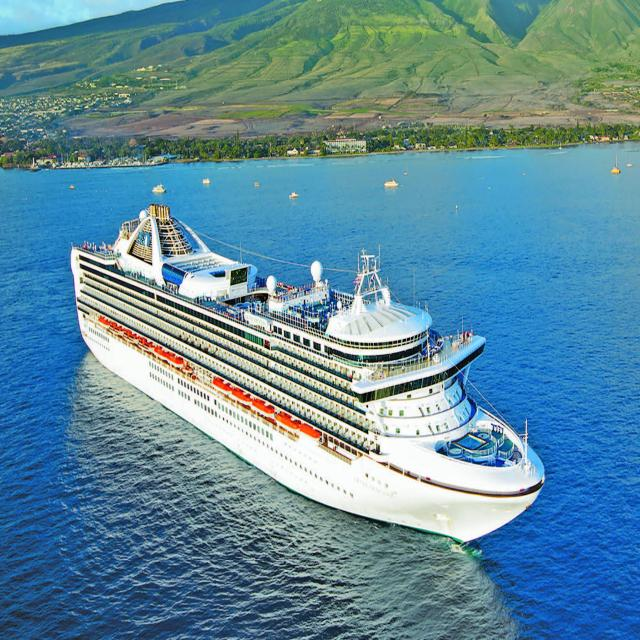PassengerShip: (41, 155, 619, 619)
